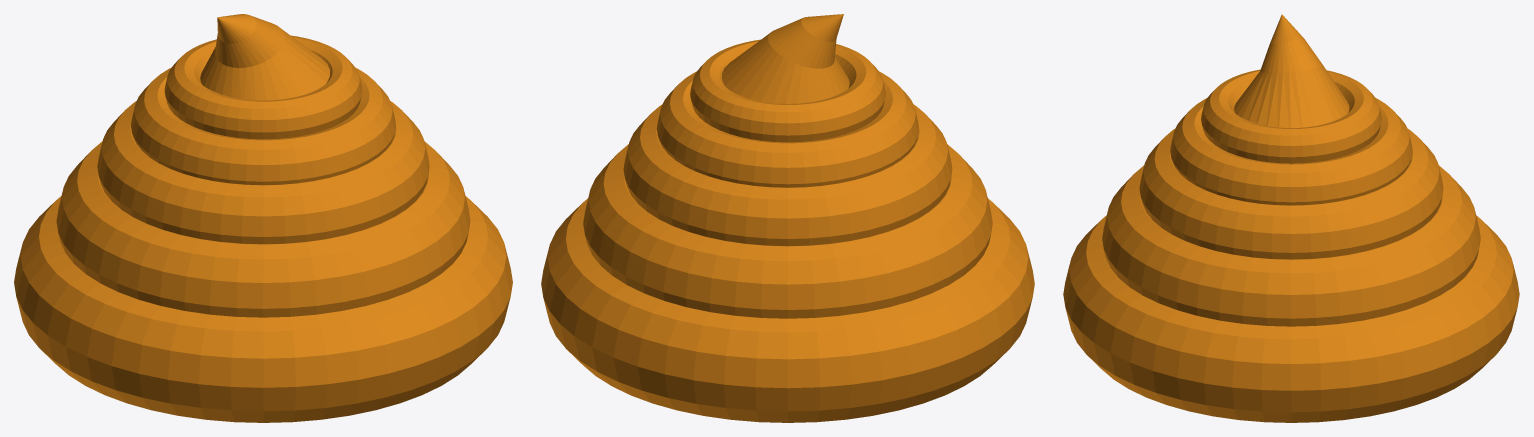
The model's file is makiguso.obj.
3 renders of one model, left to right at view 1: azimuth 30°, elevation 25°; view 2: azimuth 150°, elevation 25°; view 3: azimuth 270°, elevation 25°, orthographic. The views are drawn at different scales.
Parts seen in each view (by area): view 1: トーラス, トーラス.001, トーラス.002, トーラス.003, トーラス.004, 円錐; view 2: トーラス, トーラス.001, トーラス.002, トーラス.003, トーラス.004, 円錐; view 3: トーラス, トーラス.001, トーラス.002, トーラス.003, トーラス.004, 円錐.
Boxes of the visible parts, x1=… form: トーラス: x1=14, y1=196, x2=512, y2=422; トーラス.001: x1=56, y1=141, x2=470, y2=317; トーラス.002: x1=97, y1=101, x2=429, y2=244; トーラス.003: x1=131, y1=68, x2=395, y2=185; トーラス.004: x1=164, y1=35, x2=362, y2=139; 円錐: x1=200, y1=14, x2=329, y2=100; トーラス: x1=541, y1=198, x2=1034, y2=422; トーラス.001: x1=583, y1=144, x2=992, y2=318; トーラス.002: x1=623, y1=104, x2=952, y2=246; トーラス.003: x1=656, y1=71, x2=919, y2=187; トーラス.004: x1=690, y1=39, x2=885, y2=142; 円錐: x1=722, y1=14, x2=849, y2=103; トーラス: x1=1063, y1=215, x2=1519, y2=422; トーラス.001: x1=1102, y1=165, x2=1480, y2=326; トーラス.002: x1=1139, y1=129, x2=1443, y2=259; トーラス.003: x1=1170, y1=98, x2=1412, y2=205; トーラス.004: x1=1201, y1=69, x2=1381, y2=163; 円錐: x1=1234, y1=14, x2=1349, y2=127.
Size of the model in its own units: 1.47 by 1.09 by 1.47.
